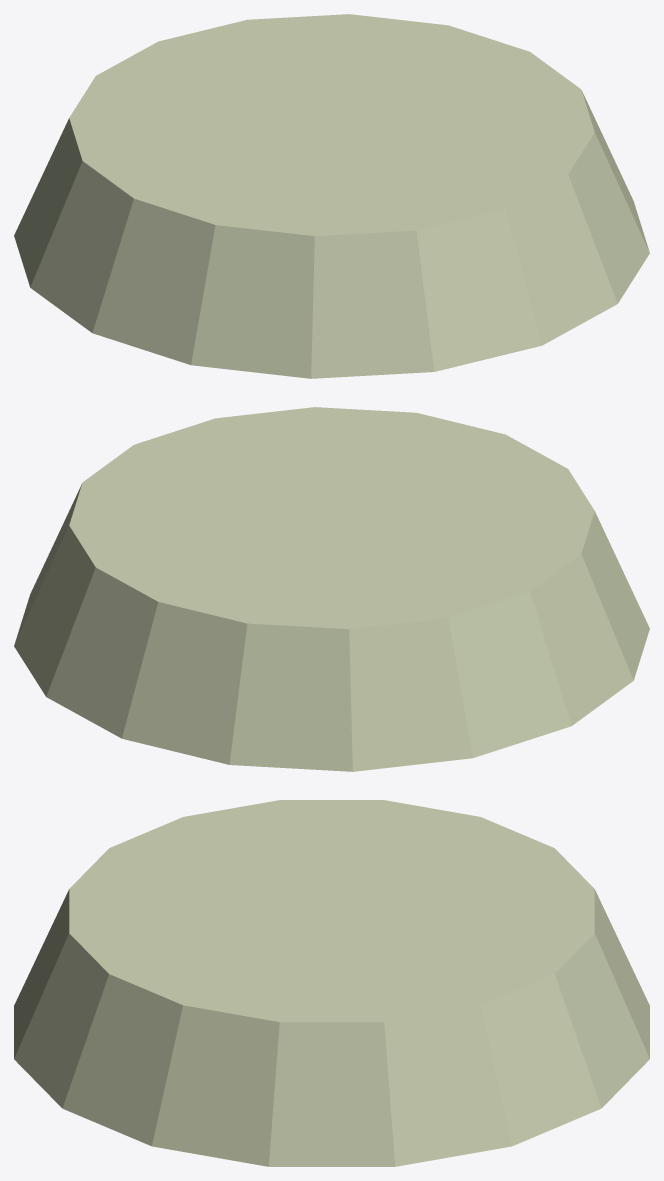
File: LLV_A_Engine_1_Collider.obj
3 renders of one model, top to bottom at view 1: azimuth 30°, elevation 25°; view 2: azimuth 150°, elevation 25°; view 3: azimuth 270°, elevation 25°, orthographic.
Parts seen in each view (by area): view 1: LLV_A_Engine_1_Collider; view 2: LLV_A_Engine_1_Collider; view 3: LLV_A_Engine_1_Collider.
Boxes of the visible parts, x1,y1,x2,y2 form: LLV_A_Engine_1_Collider: (14,14,649,378); LLV_A_Engine_1_Collider: (14,407,649,771); LLV_A_Engine_1_Collider: (14,800,649,1166).
Size of the model in its own units: 7.56 by 2.34 by 7.56.
